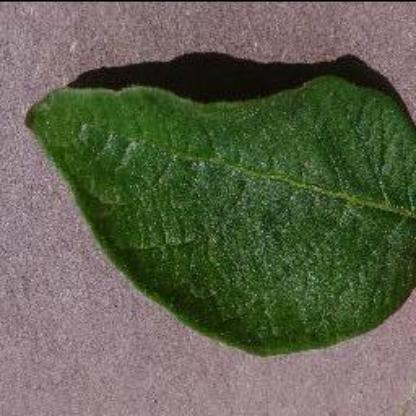Healthy-plant: (25, 59, 416, 353)
